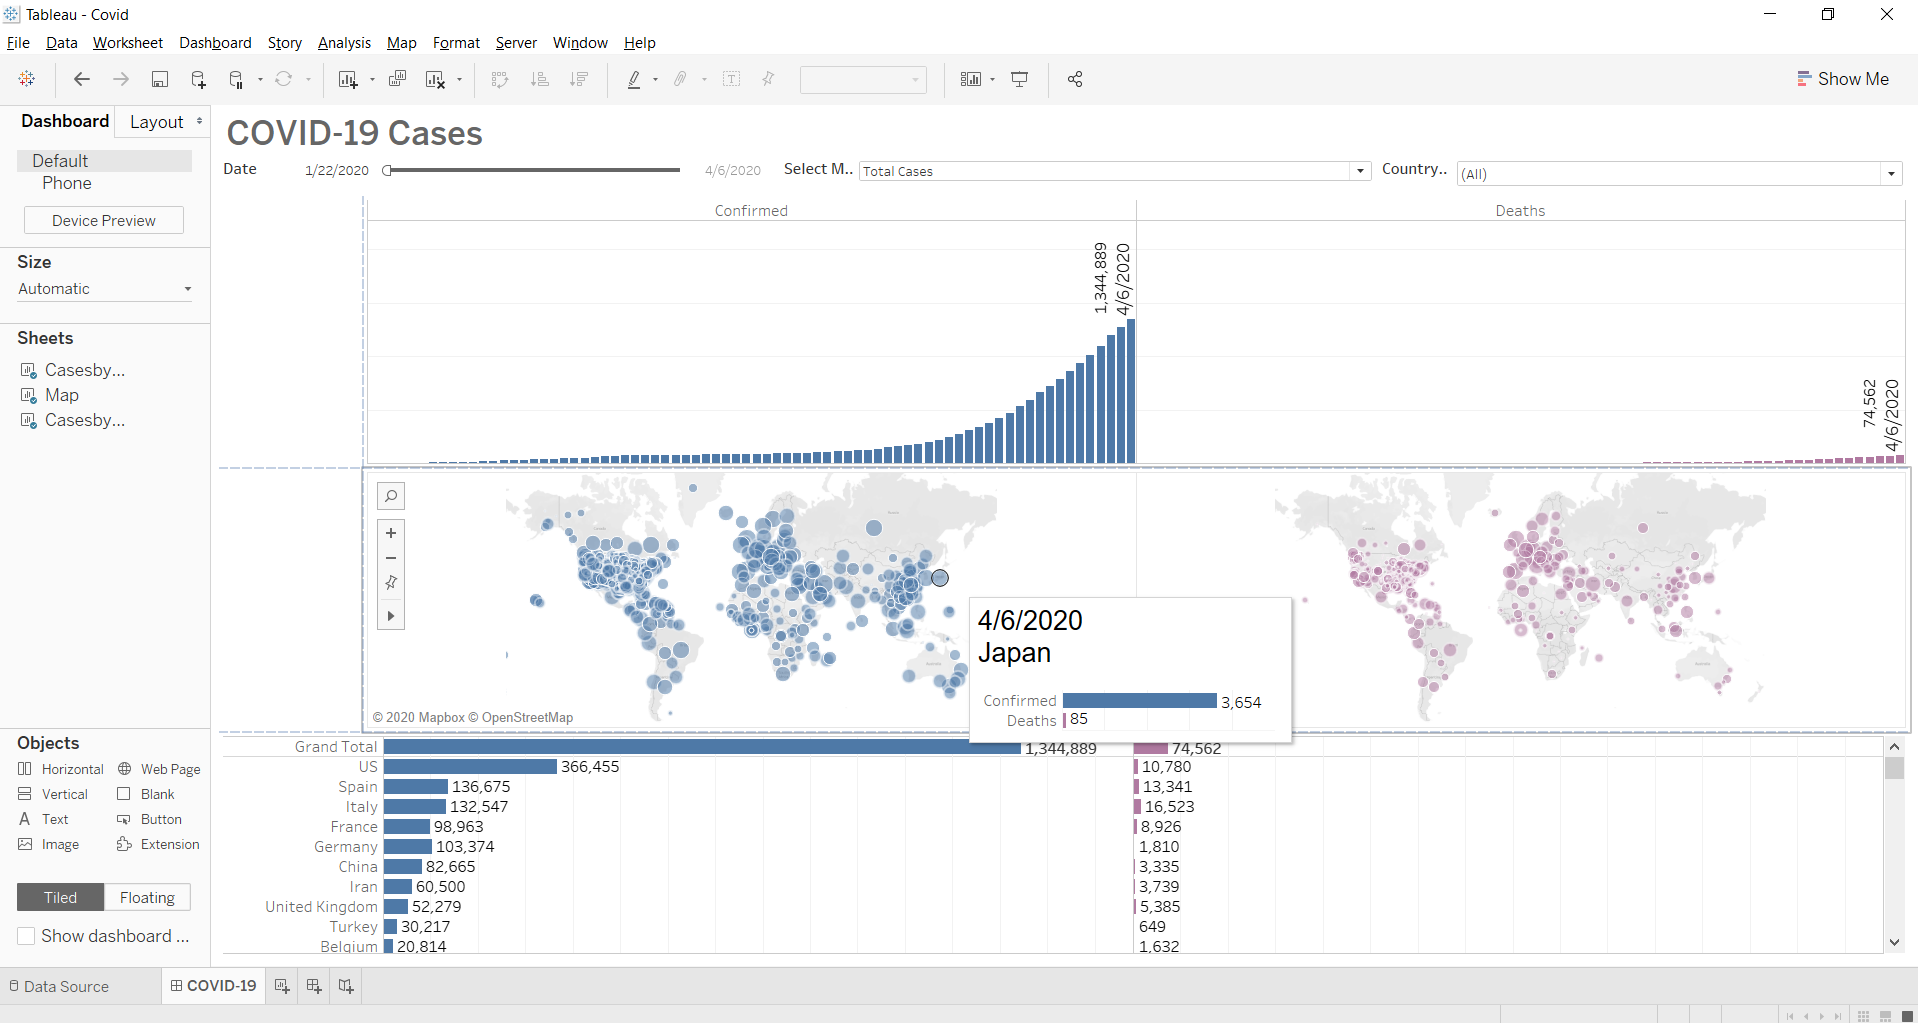

This screenshot's page, from the dashboard's own definition file:
{"tool":"tableau","page":{"name":"COVID-19","canvas":[1000,1000],"units":"permille","ordinal":0},"visuals":[{"type":"text","box":[4.7,9.3,990.6,48.2]},{"type":"filter","title":"CasesbyDay","param":"[federated.1vioyut0jw48041dm0a6v1ov7vvy].[none:Date:qk]","box":[4.7,57.5,328.4,48.2]},{"type":"parameter","param":"[Parameters].[Parameter 1]","box":[333.1,57.5,350.8,48.2]},{"type":"filter","title":"CasesbyDay","param":"[federated.1vioyut0jw48041dm0a6v1ov7vvy].[none:Country_Region:nk]","box":[683.8,57.5,311.5,48.2]},{"type":"blank","box":[4.7,105.7,84.5,315.9]},{"type":"worksheet","title":"CasesbyDay","mark":"Bar","rows":["Calculation_1725441674061975552"],"cols":["Case_Type","Date"],"box":[89.2,105.7,906.1,315.9]},{"type":"blank","box":[4.7,421.6,84.5,306.6]},{"type":"worksheet","title":"Map","mark":"Automatic","rows":["Lat"],"cols":["Case_Type","Long"],"box":[89.2,421.6,906.1,306.6]},{"type":"worksheet","title":"CasesbyCountry","mark":"Automatic","rows":["Country_Region"],"cols":["Case_Type","Calculation_1725441674061975552"],"box":[4.7,728.2,990.6,262.5]}]}

Visuals, with their boxes on the dashboard's canvas, which has no fixed pixel size, in thousandths of its width and height (x1, y1, x2, y2). These are canvas units, not pixel positions in the 1918x1023 screenshot, which may show the page scaled, cropped or inside an application window:
text: [x1=5, y1=9, x2=995, y2=58]
"CasesbyDay" filter: [x1=5, y1=58, x2=333, y2=106]
parameter: [x1=333, y1=58, x2=684, y2=106]
"CasesbyDay" filter: [x1=684, y1=58, x2=995, y2=106]
blank: [x1=5, y1=106, x2=89, y2=422]
"CasesbyDay" worksheet (Bar marks): [x1=89, y1=106, x2=995, y2=422]
blank: [x1=5, y1=422, x2=89, y2=728]
"Map" worksheet: [x1=89, y1=422, x2=995, y2=728]
"CasesbyCountry" worksheet: [x1=5, y1=728, x2=995, y2=991]
